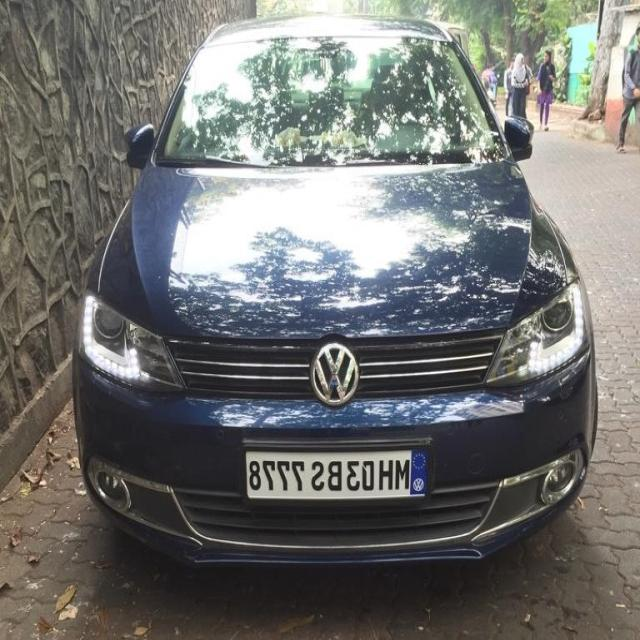number-plate: (233, 436, 424, 519)
